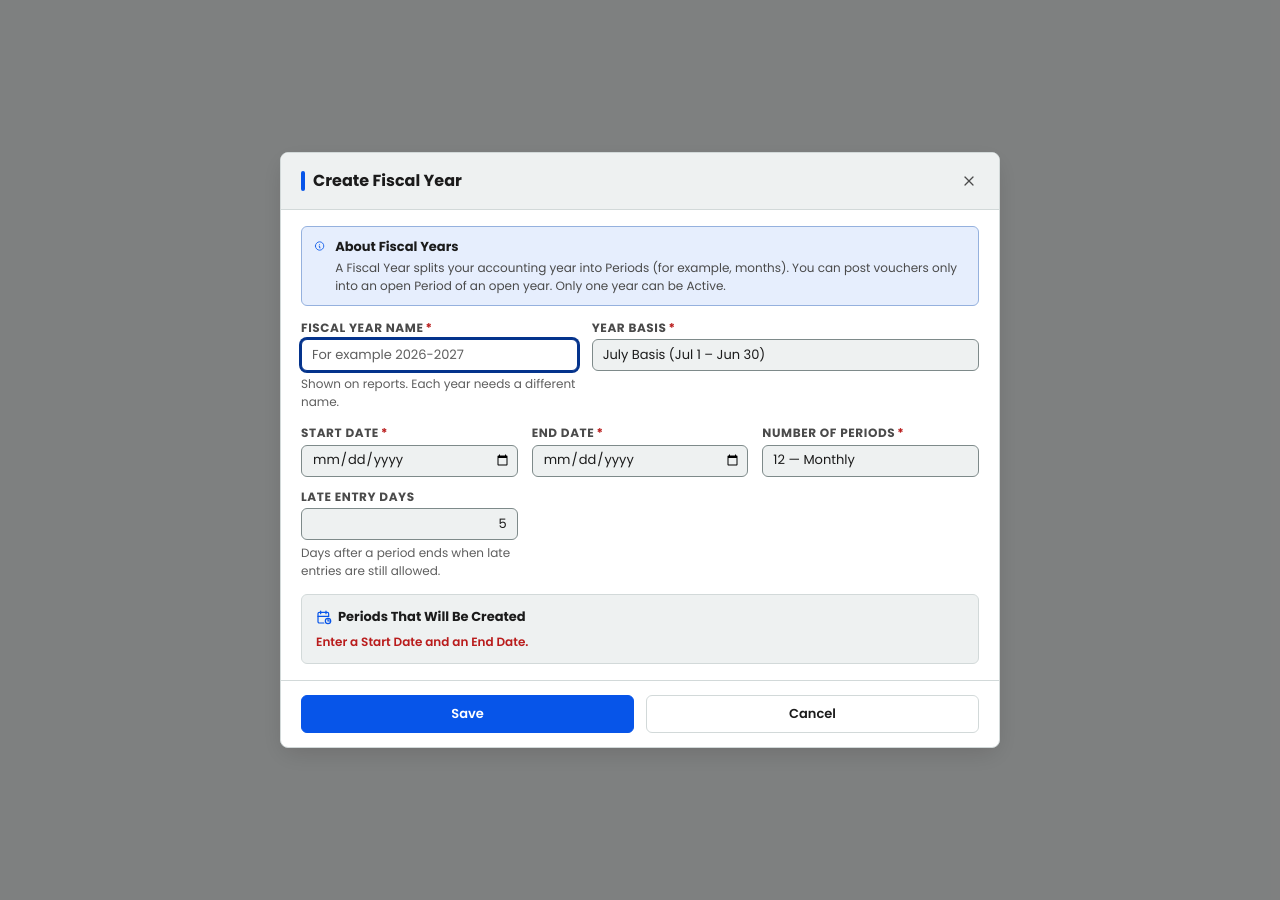
it: CreateFiscalYearDialog › fills the dates from the name and basis and previews the periods
Type "2026-2027" into the field labelled "Fiscal Year Name".
click(439, 355); type("2026-2027")  # box [301,339,578,371]
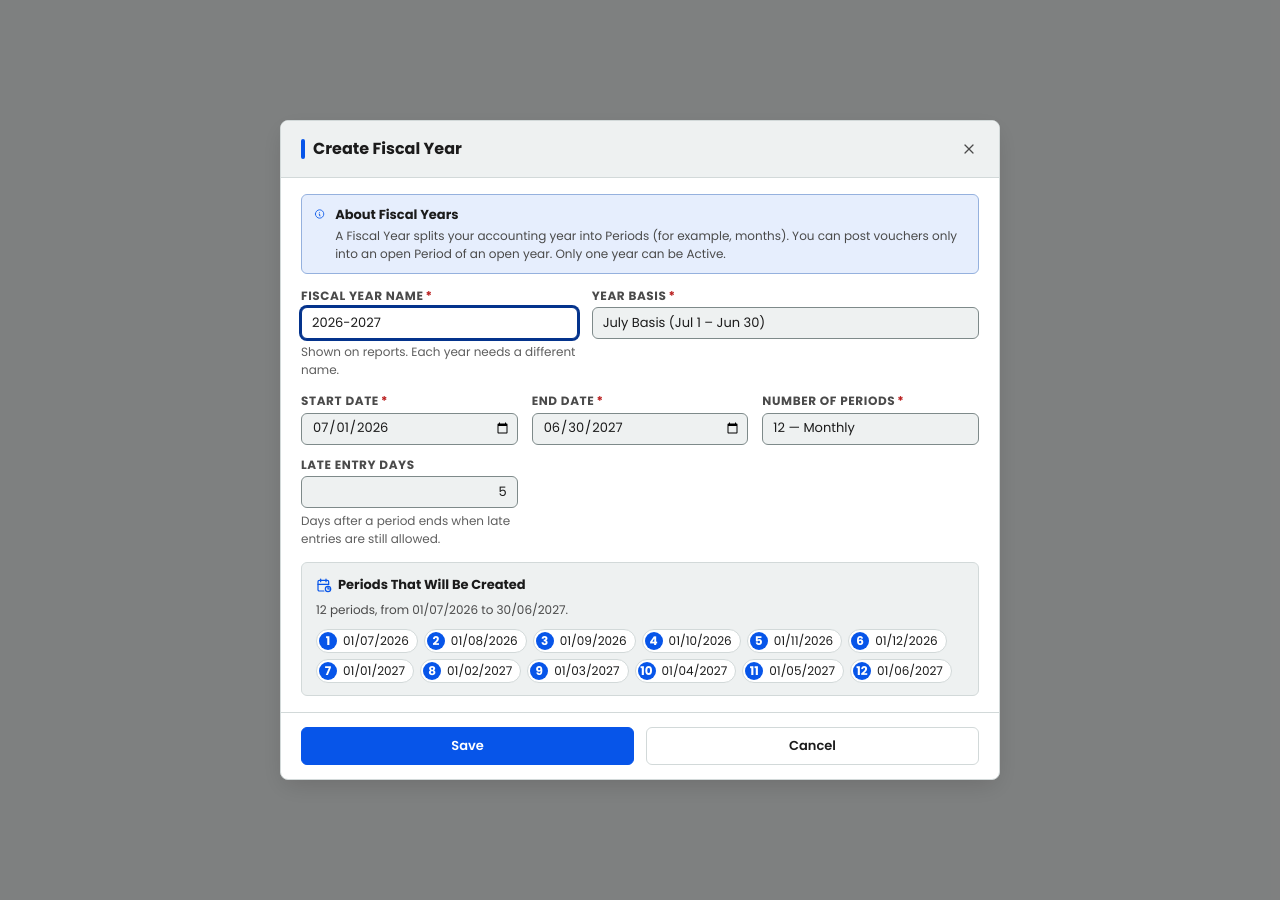
Expected: the date field labelled "Start Date*" holds "2026-07-01", [301,413,518,445]
Expected: the date field labelled "End Date*" holds "2027-06-30", [532,413,748,445]
Expected: the text "12 periods, from 01/07/2026 to 30/06/2027." is shown, [316,601,568,618]
Select "Calendar Year (Jan 1 – Dec 31)" in the dropdown labelled "Year Basis*" at (785,323), box [592,307,979,339]
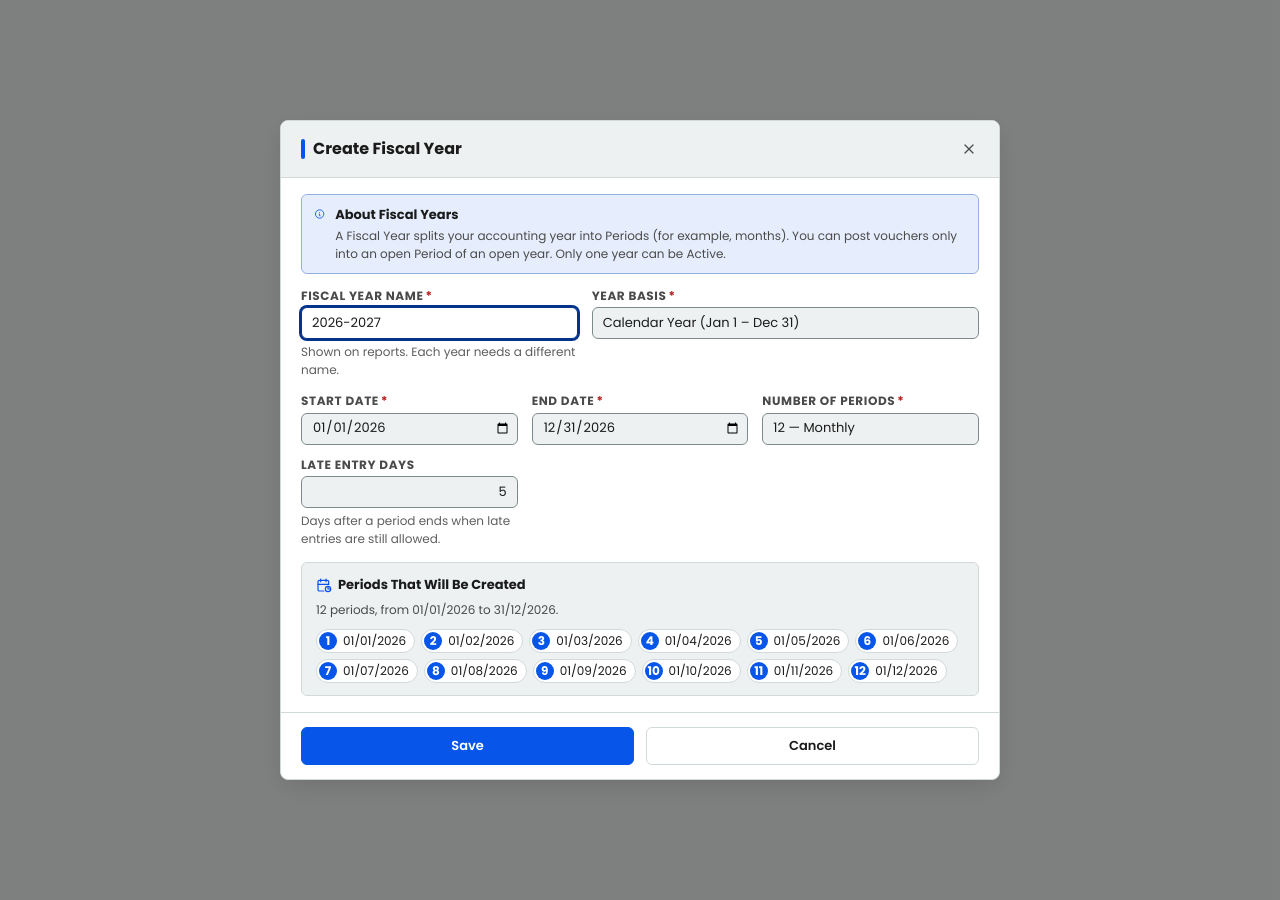
Expected: the date field labelled "Start Date*" holds "2026-01-01", [301,413,518,445]
Expected: the date field labelled "End Date*" holds "2026-12-31", [532,413,748,445]
